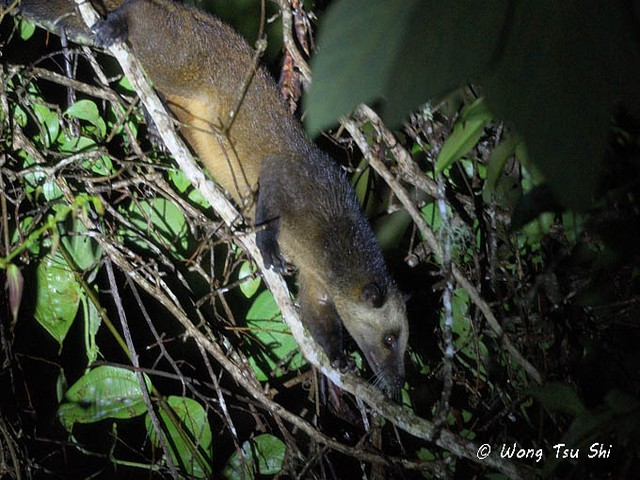civet: (29, 2, 409, 390)
